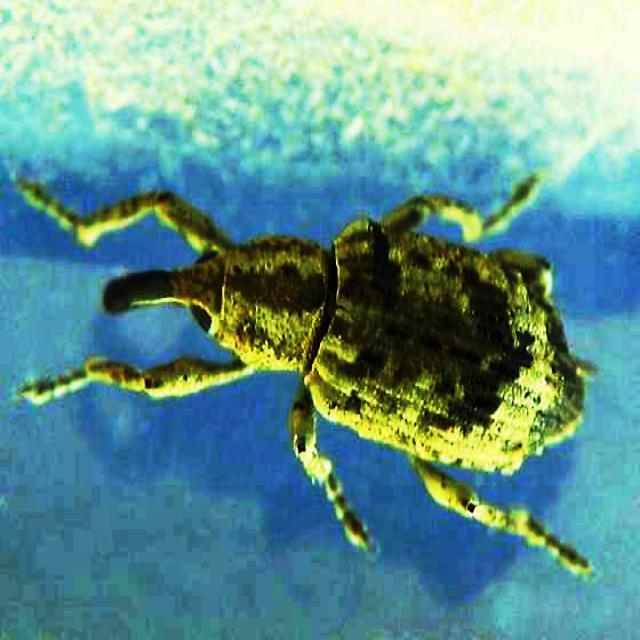rice-bug: (96, 206, 594, 485)
